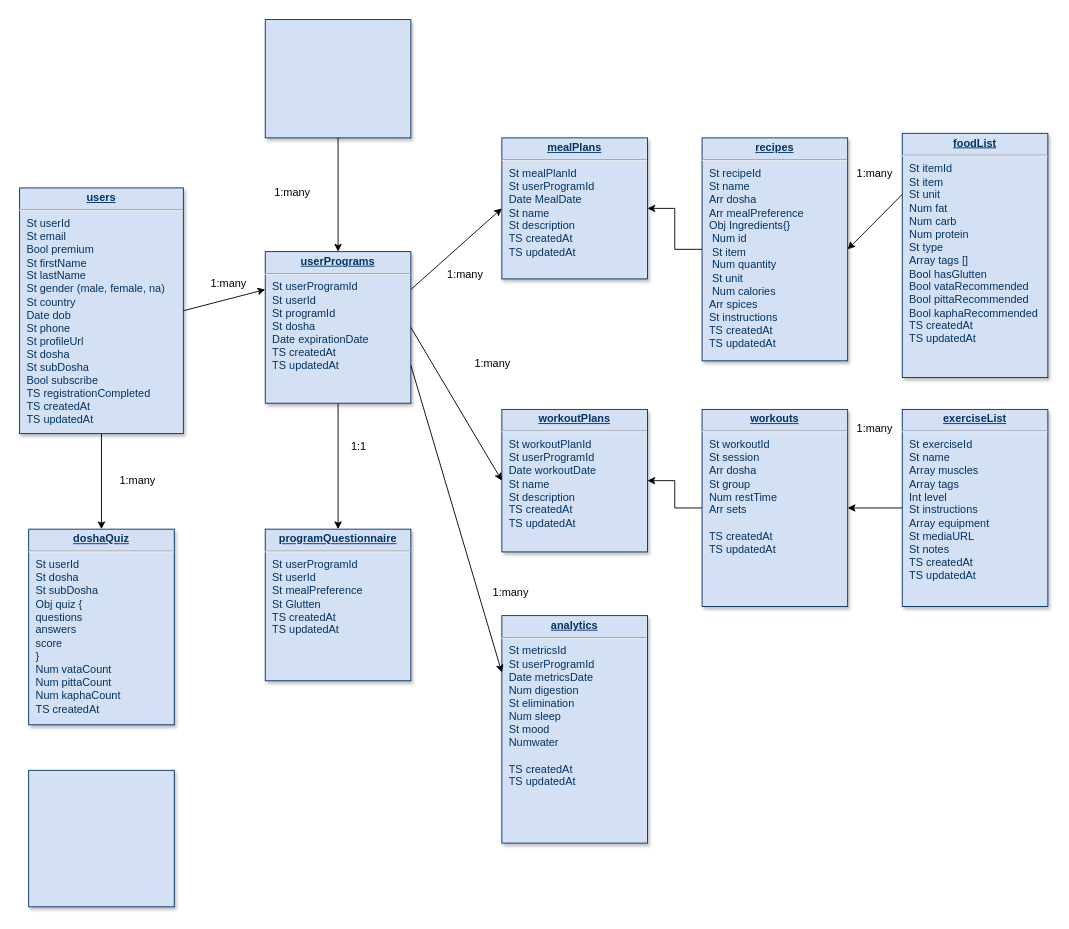
Image size: 1069x929. Some labels were removed from this diagram. The shapes that lost their labels are listed below. From the top down, each one's centre as x and y in pixels, then its label:
At pixel 338 79: "programs St programId St name St description TS createdAt TS updatedAt".
At pixel 102 839: "utils St utilId Name Description CreatedAt UpdatedAt Enabled".
